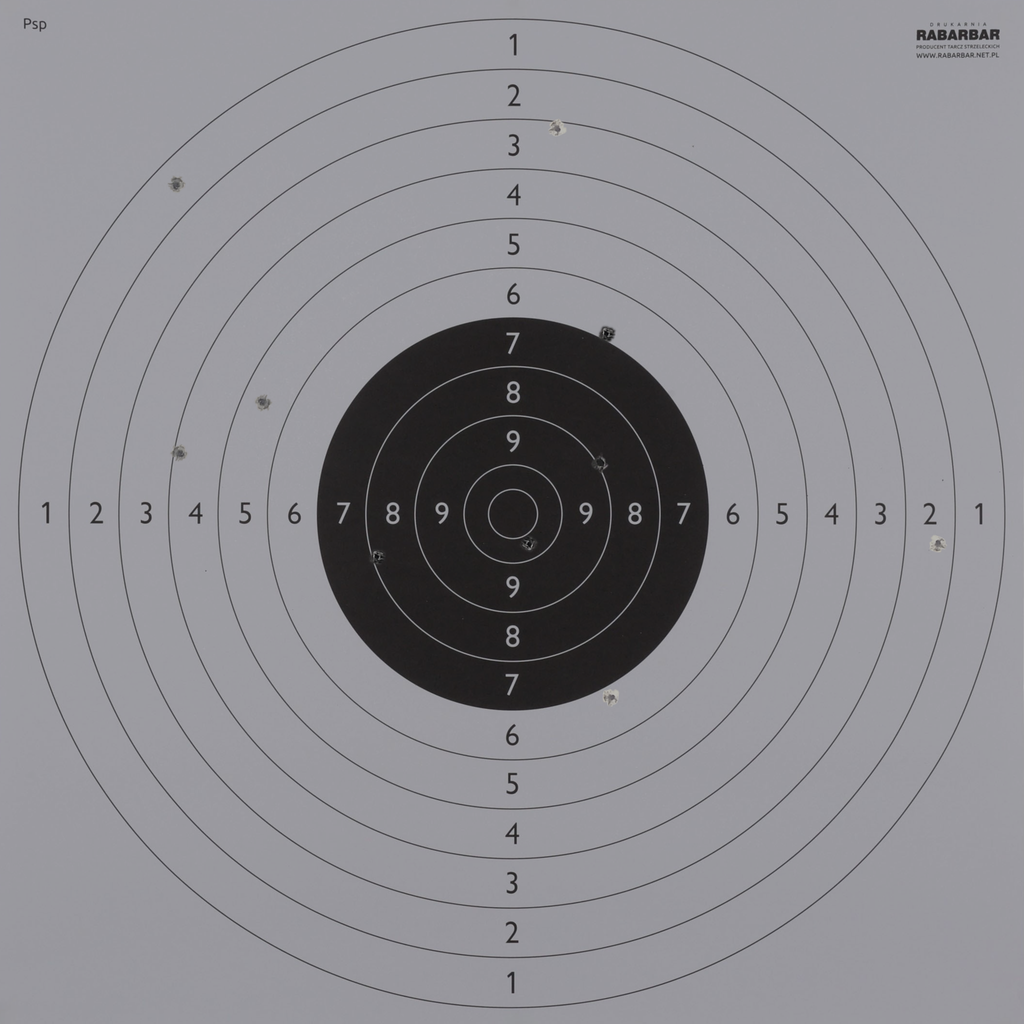0 punktow: (589, 2, 607, 21)
1 punkt: (167, 176, 186, 194)
10 punktow: (520, 535, 539, 554)
2 punkty: (929, 534, 947, 553)
3 punkty: (548, 120, 566, 138)
4 punkty: (171, 444, 189, 463)
5 punktow: (253, 393, 272, 412)
6 punktow: (602, 688, 621, 707)
7 punktow: (597, 324, 616, 343)
8 punktow: (368, 547, 386, 566)
9 punktow: (591, 454, 610, 472)
